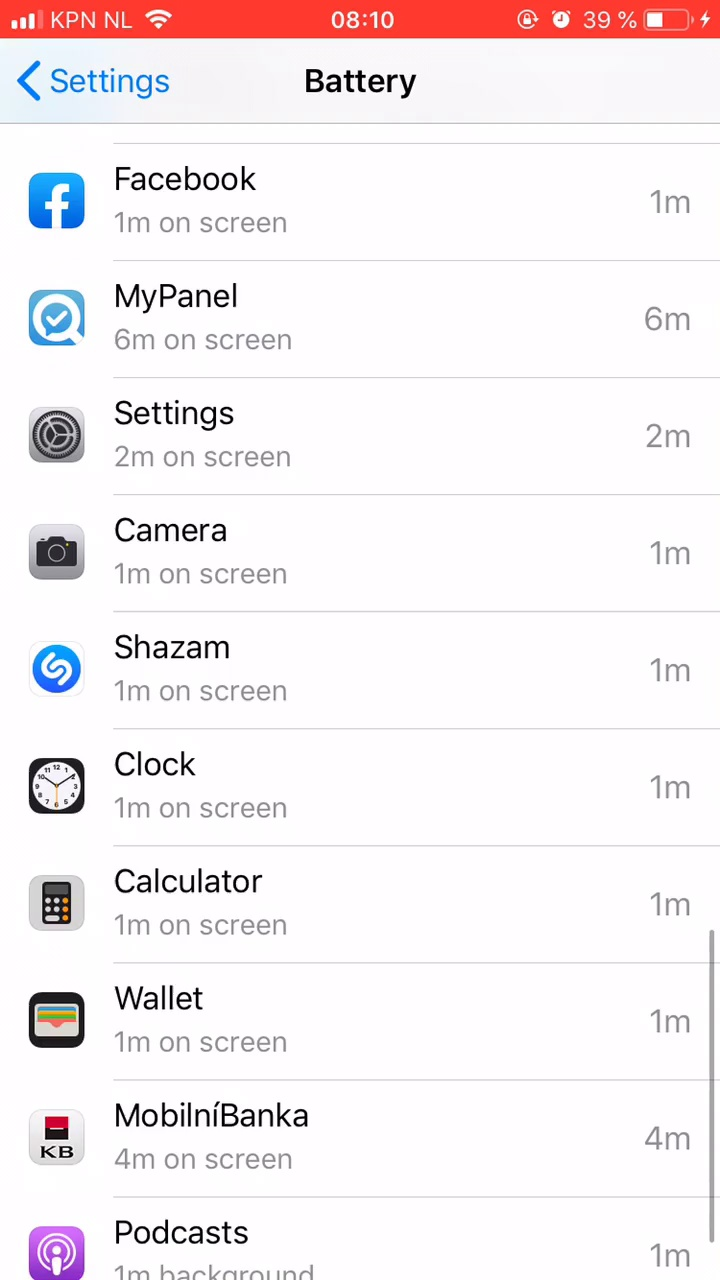app: (28, 155, 702, 247), (26, 271, 700, 363), (22, 390, 696, 482), (26, 504, 700, 596), (27, 623, 701, 715), (28, 737, 702, 829), (28, 858, 702, 950), (24, 973, 698, 1065), (27, 1093, 701, 1185)
